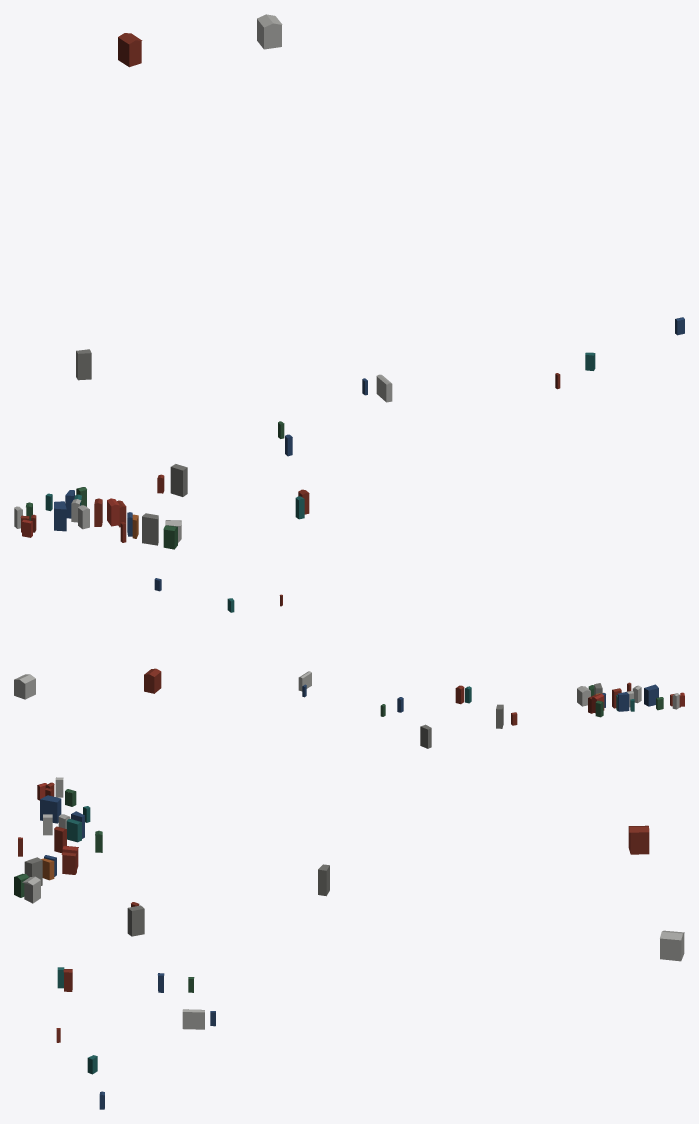
Rendered from near-15-27359-14858.8e69c0a2.glb.
The picture shows the model from 3 angles, top to bottom: view 1: azimuth 30°, elevation 25°; view 2: azimuth 150°, elevation 25°; view 3: azimuth 270°, elevation 25°; orthographic projection. The views are drawn at different scales.
Size of the model in its own units: 645 by 205 by 563.
